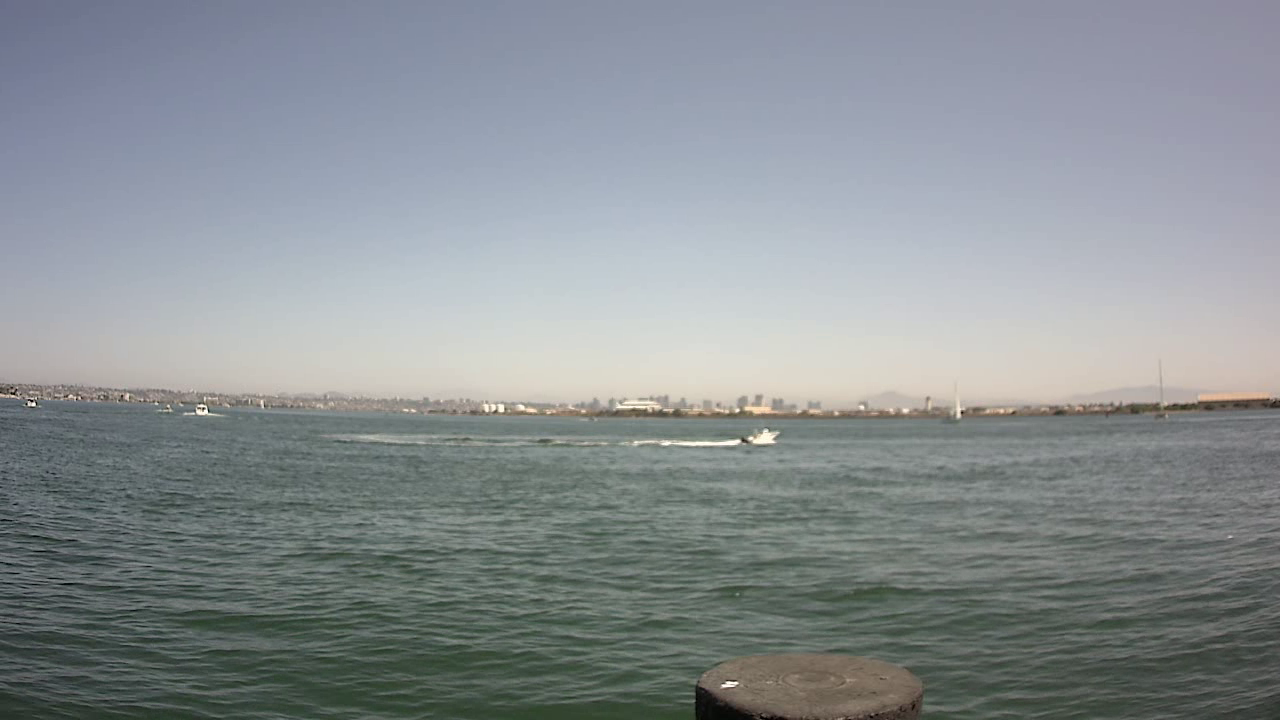target: (734, 420, 785, 450)
